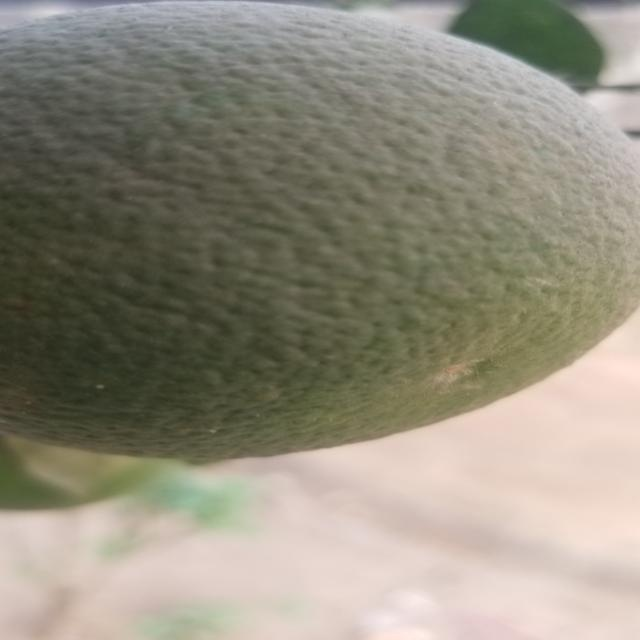agrume: (3, 3, 640, 459)
